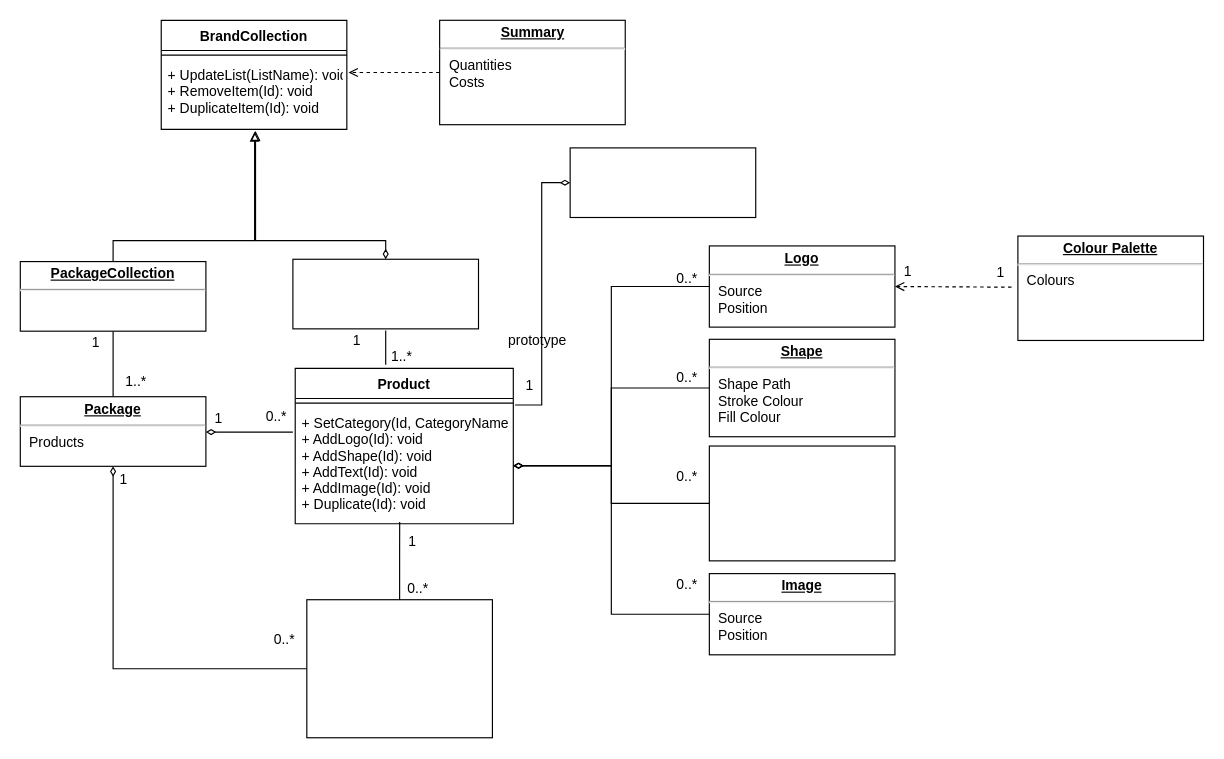
The diagram is 1224 pixels wide and 759 high, and some of its shapes have lost their labels. Here are the shapes that lost their labels. From the top down, the centre of each, then its label:
pixel 662 182: Prototype Library Products
pixel 385 293: ProductCollection
pixel 801 503: Text Text Typeface Position Stroke Colour
pixel 399 668: Comment Name Text Time Stamp Product ID Highlighted Area
